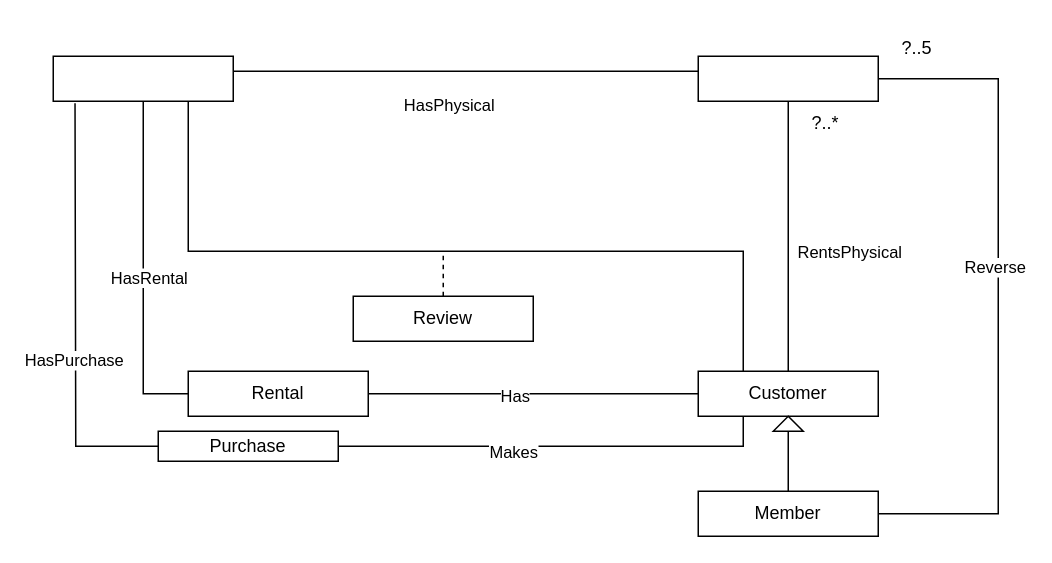
Image size: 1052x563. Some labels were removed from this diagram. The centre of each missing label's shape, as x and y in pixels:
"Movie" goes at point (142, 78).
"RentalCopy" goes at point (787, 78).
